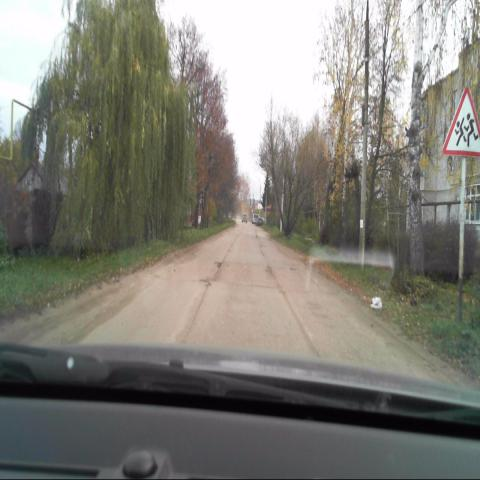1_23: (442, 85, 478, 155)
